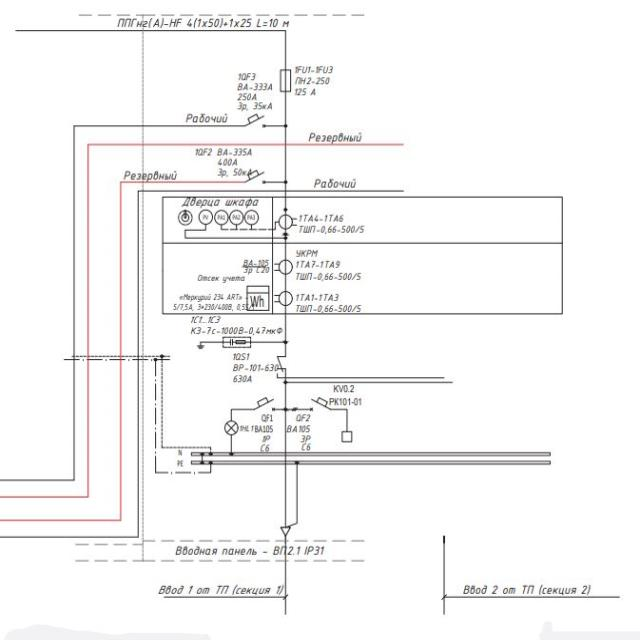-: (171, 290, 252, 312), (217, 146, 256, 178), (237, 80, 276, 112), (232, 361, 280, 386), (299, 222, 366, 236), (328, 382, 364, 408), (271, 544, 328, 560), (293, 301, 363, 314), (292, 75, 330, 98), (286, 422, 315, 451), (295, 272, 362, 284), (254, 424, 276, 453), (240, 256, 271, 276)
FU: (280, 68, 292, 94)
HL: (224, 419, 238, 436)
PA: (213, 208, 230, 226), (243, 208, 260, 225), (228, 208, 244, 226)
PV: (198, 209, 213, 224)
QF: (244, 169, 269, 185), (244, 113, 268, 129), (254, 396, 276, 412), (310, 398, 332, 412)
QS: (275, 356, 289, 378)
TT: (274, 254, 293, 280), (278, 210, 297, 235), (273, 284, 292, 309)
WH: (246, 284, 270, 312)
